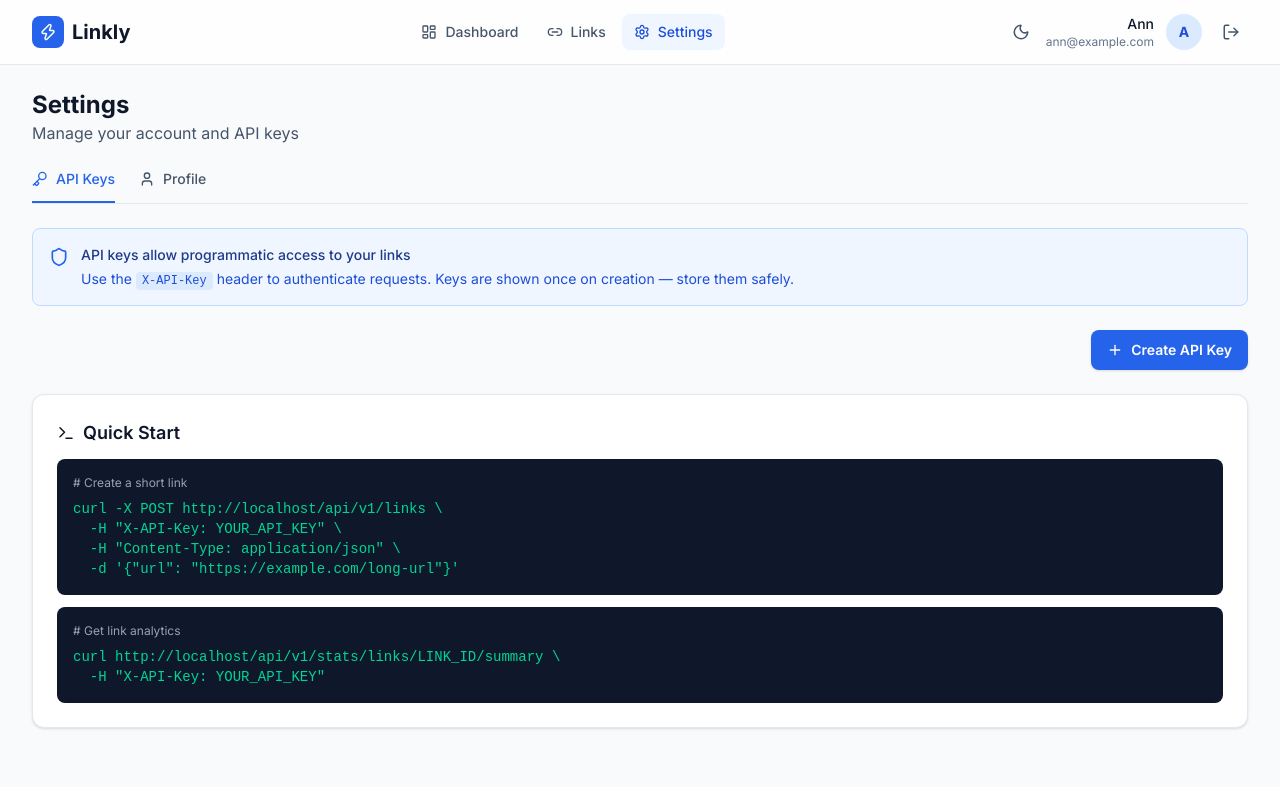
Test case: Settings › saves the profile through the API
Click the button "Profile" at (173, 186), box [139, 169, 206, 203]
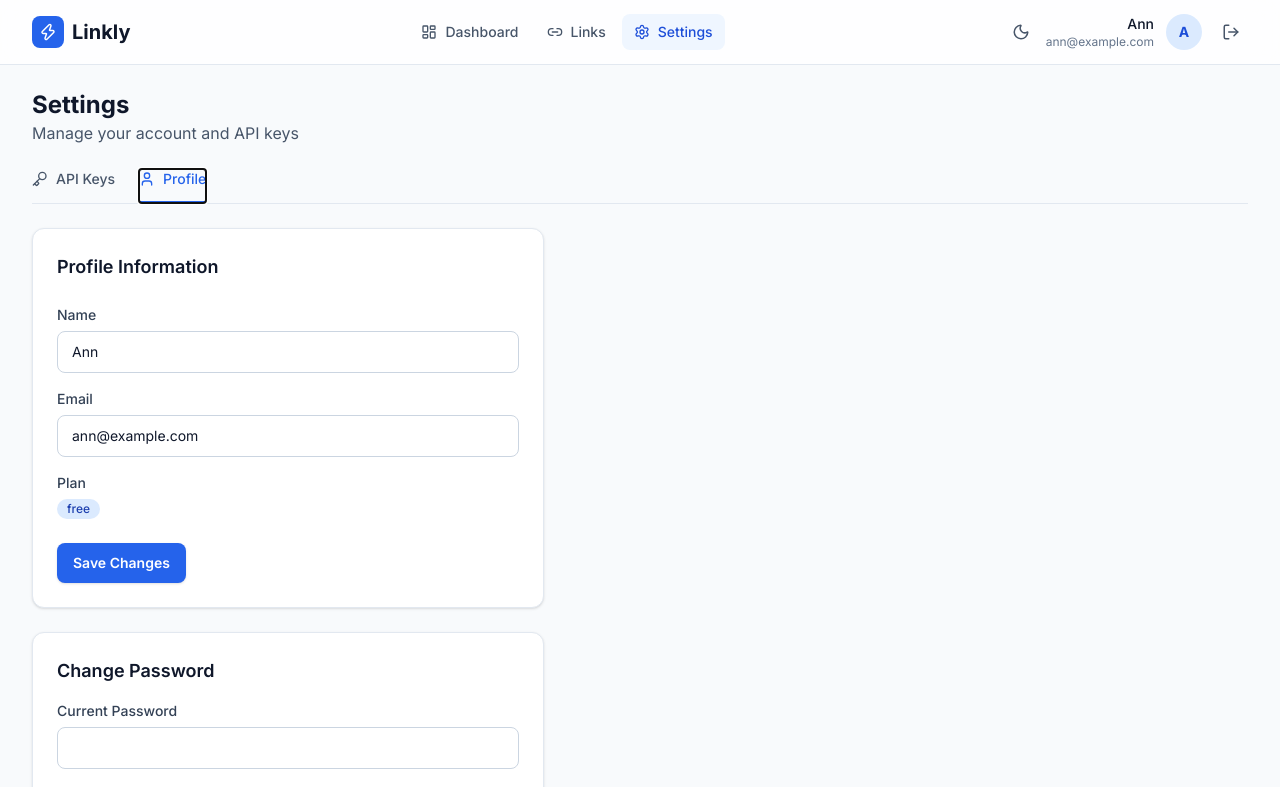
Replace the text in the field showing "Ann" below "Name" with "Annie" at (288, 352), box [57, 331, 519, 373]
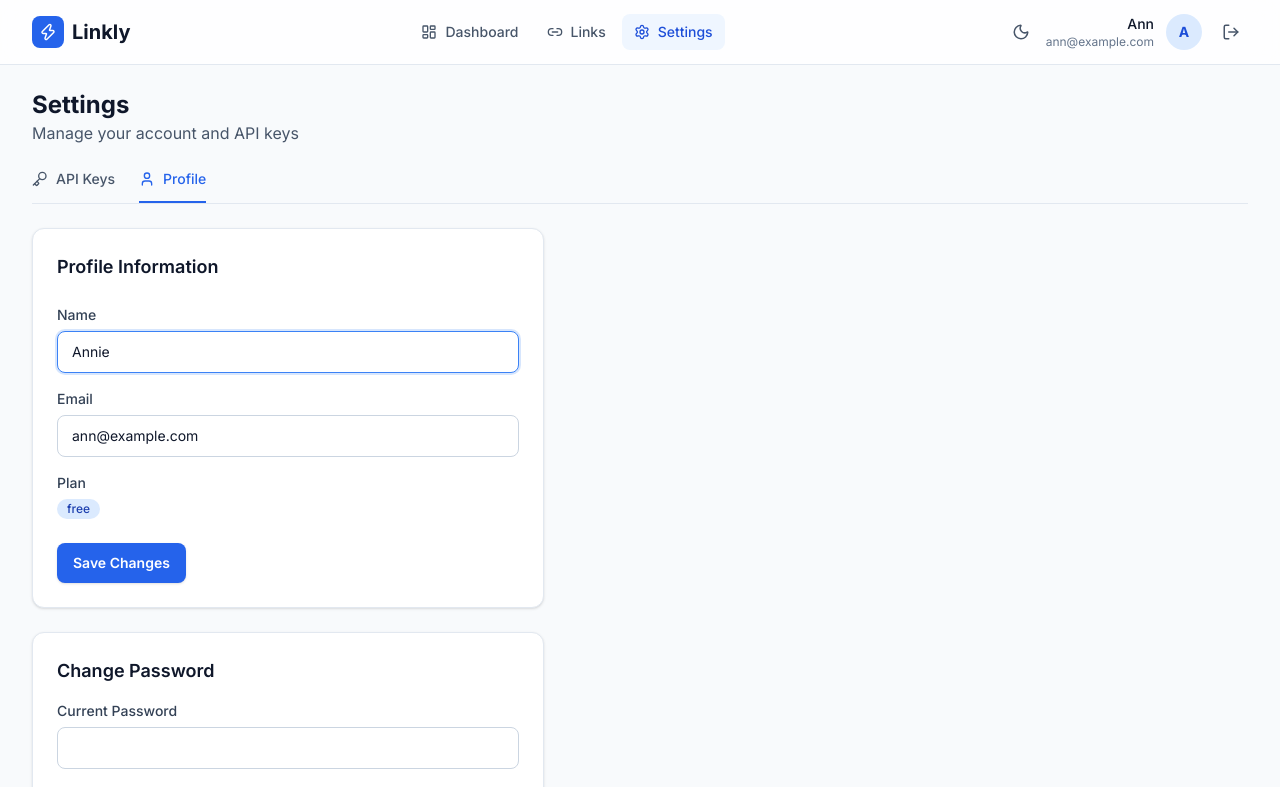
Click the button "Save Changes" at (121, 563), box [57, 543, 186, 583]
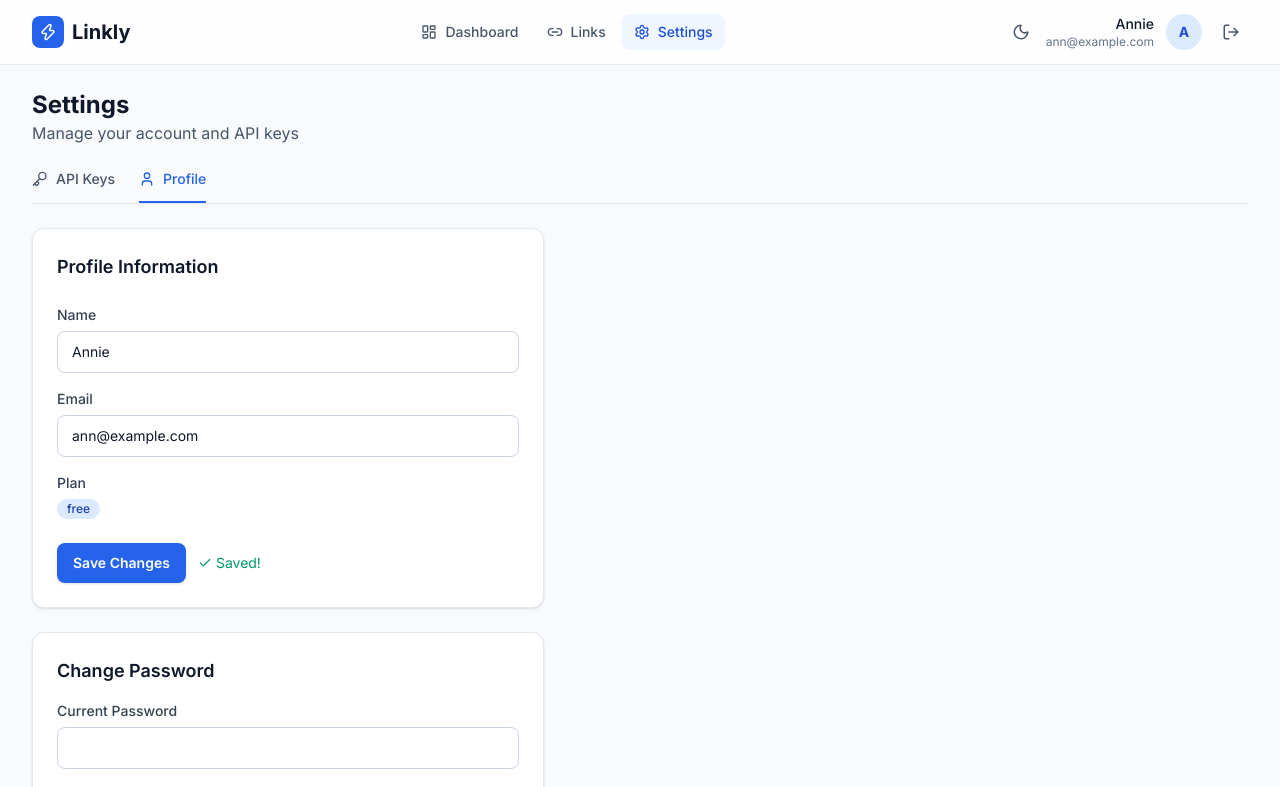
Result: the text "Saved!" is shown at [198, 553, 261, 573]
Result: the text "Annie" is shown at [1116, 15, 1154, 32]
